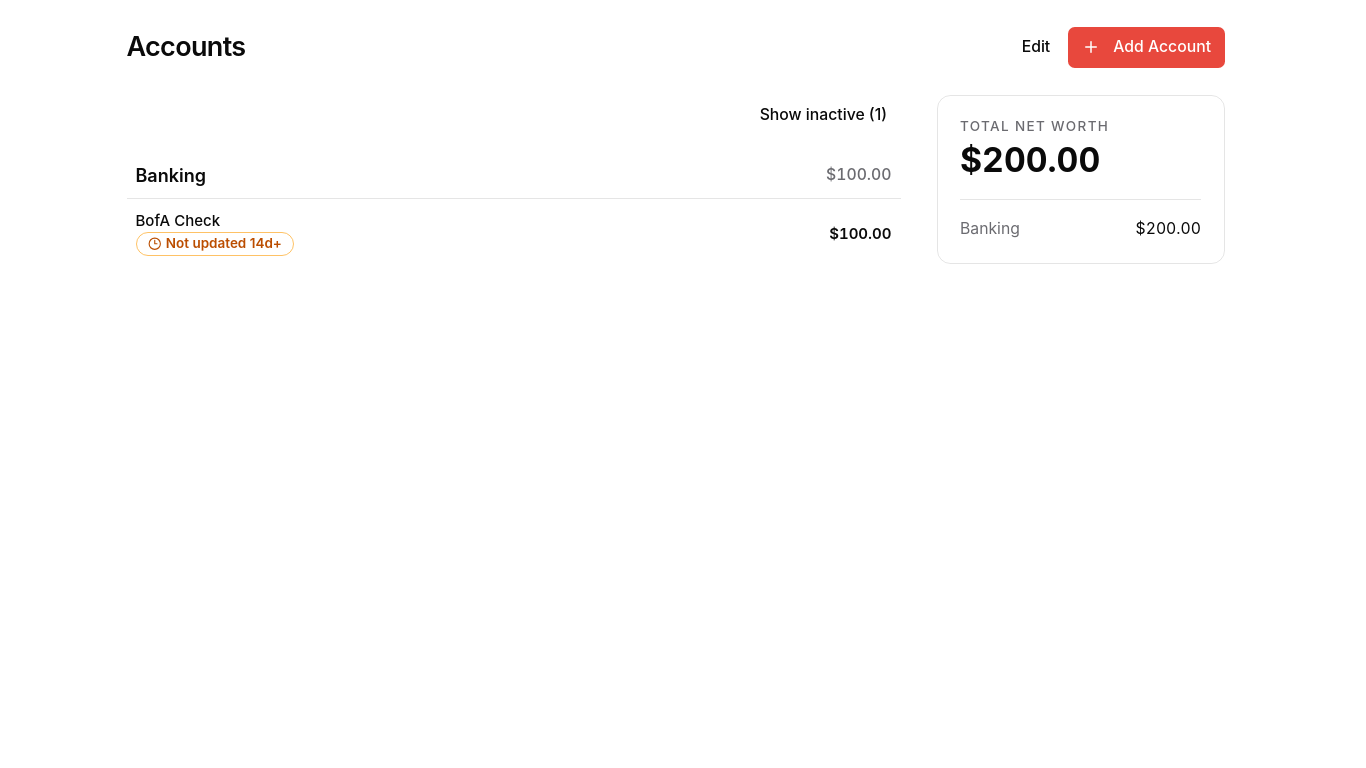
Accounts page -- accessible account form › names the type and liquidity selectors
Expected: the text "BofA Check" is shown, [136,210,220,230]
Click the button "Add Account".
click(1146, 47)  # box [1068,27,1224,68]
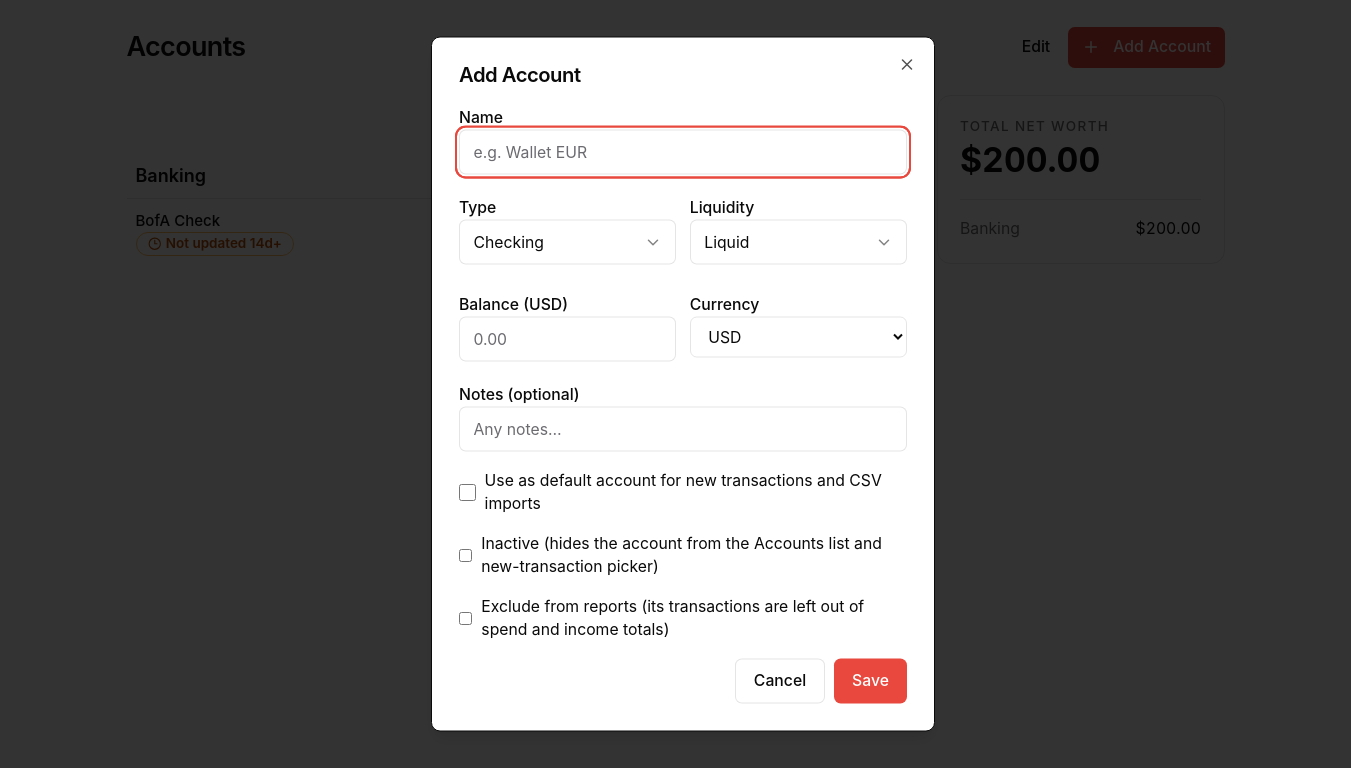
Result: the dropdown named "Type" is shown at [459,220,676,265]
Result: the dropdown named "Liquidity" is shown at [690,220,907,265]
